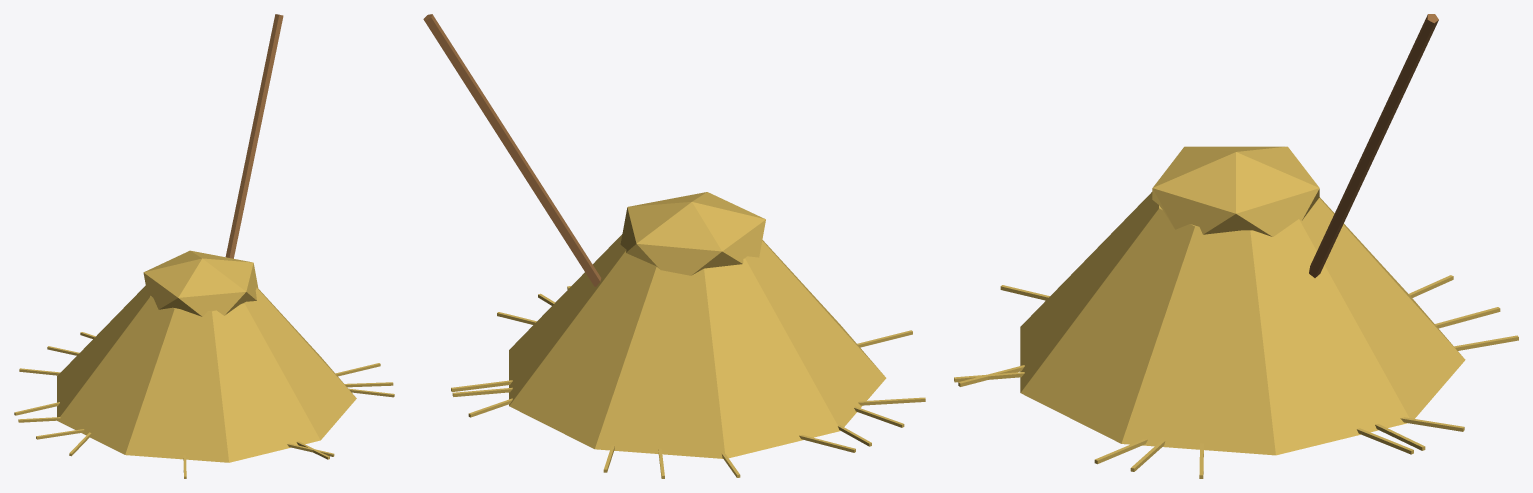
Rendered from SM_Hay_Pile.obj.
The picture shows the model from 3 angles, left to right: view 1: azimuth 30°, elevation 25°; view 2: azimuth 150°, elevation 25°; view 3: azimuth 270°, elevation 25°; orthographic projection. The views are drawn at different scales.
Visible parts, largest first — view 1: SM_Hay_Pile; view 2: SM_Hay_Pile; view 3: SM_Hay_Pile.
Part boxes in pixels (bbox=[...]): SM_Hay_Pile: bbox=[14, 14, 394, 478]; SM_Hay_Pile: bbox=[423, 14, 925, 478]; SM_Hay_Pile: bbox=[954, 14, 1518, 478].
Size of the model in its own units: 1.74 by 1.51 by 1.72.
